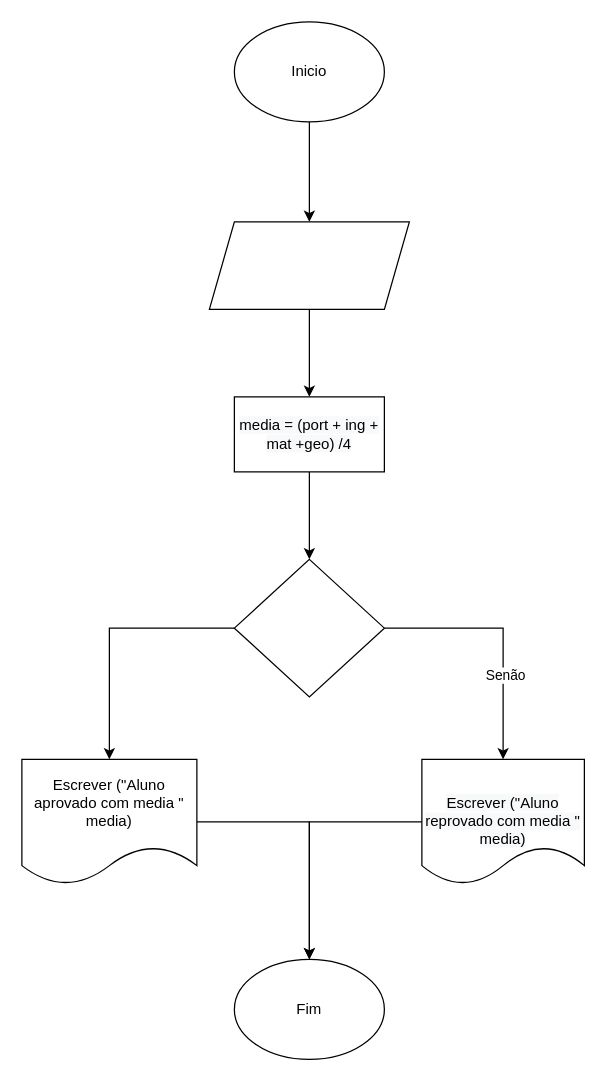
Image size: 606x1081. Some labels were removed from this diagram. Here are the shapes that lost their labels. From the top down, the centre of each, then its label:
[308,265]: Ler (port, ing, mat, geo, media)
[308,627]: media >= 9.5
